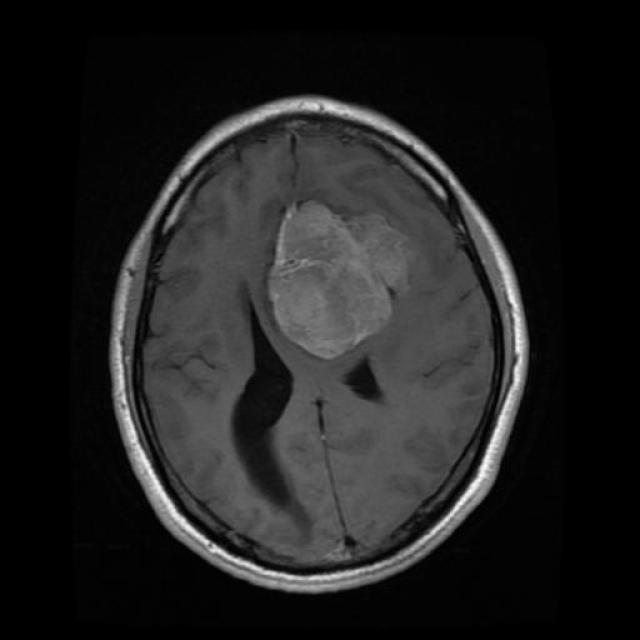meningioma: (268, 201, 394, 362)
